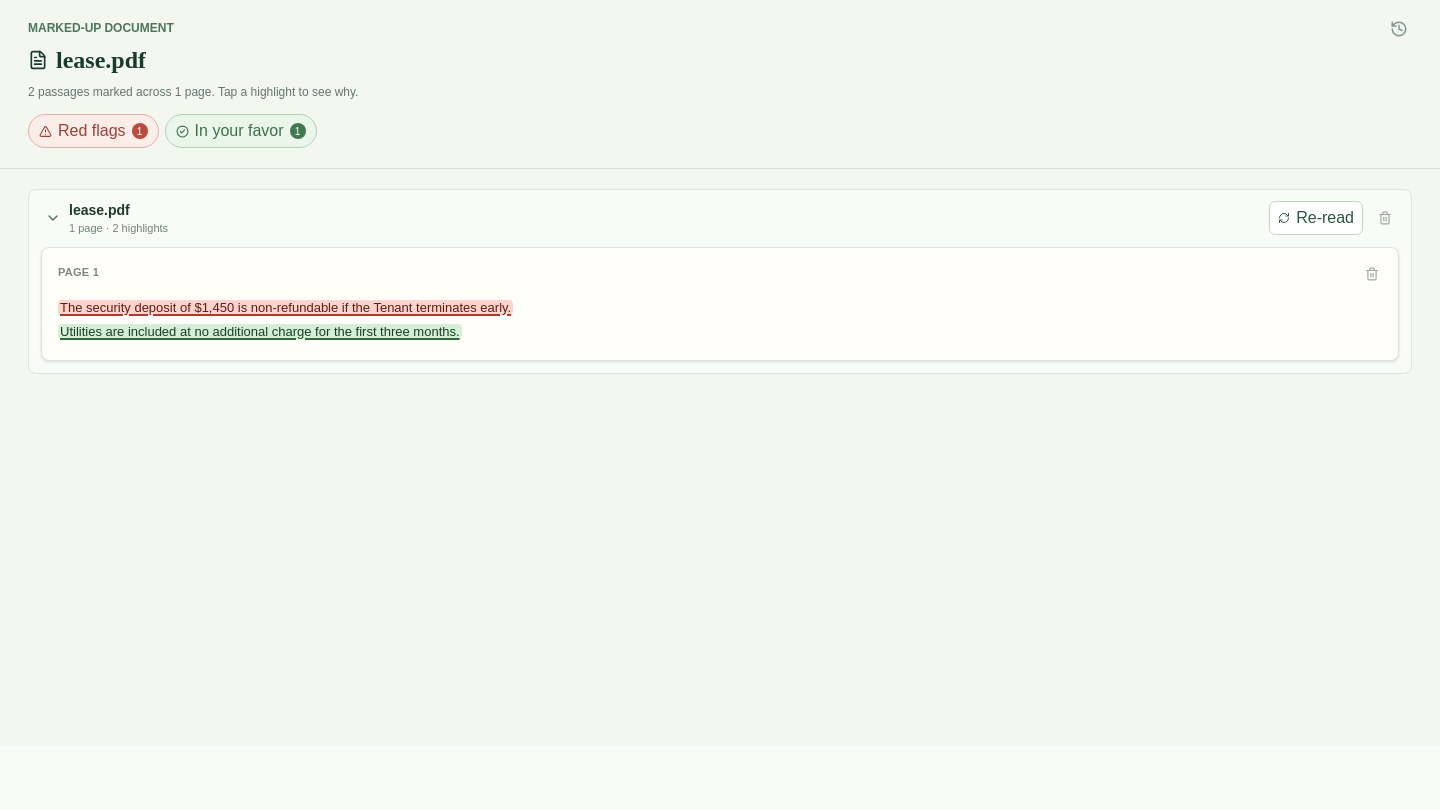
Test: editing the highlights › puts the highlight back and forgets the edit when saving fails
Click the button with aria-label "Red flags: Money you may not get back" at [286, 307], box [58,300,513,314]
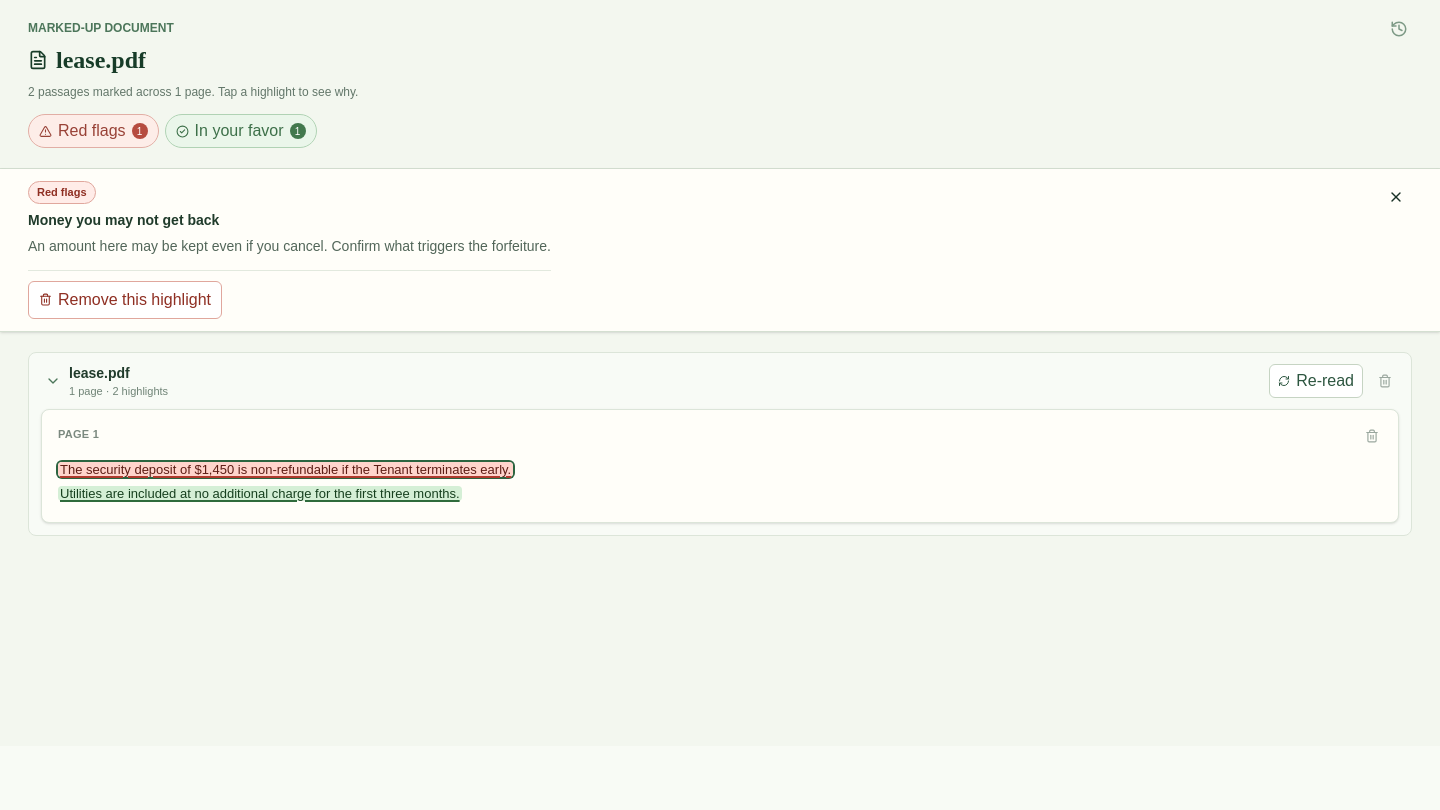
Click the button "Remove this highlight" at [125, 300], box [28,280,222,318]
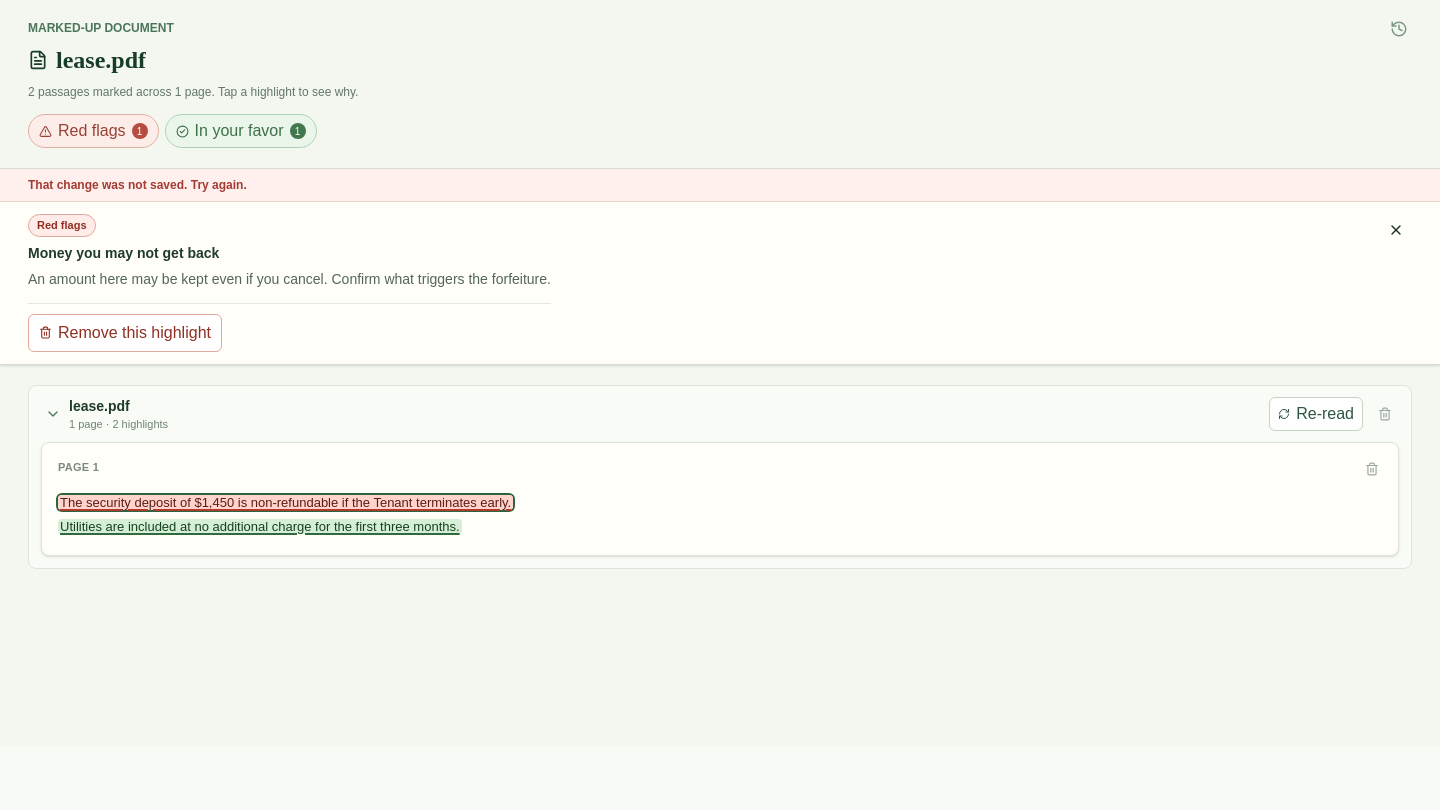
Result: the message shows "was not saved" at [28,178,247,192]
